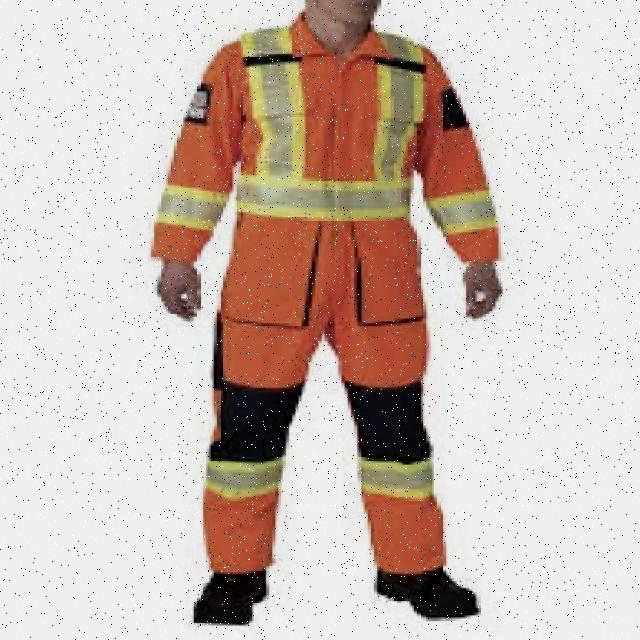Mask: (142, 16, 504, 555)
